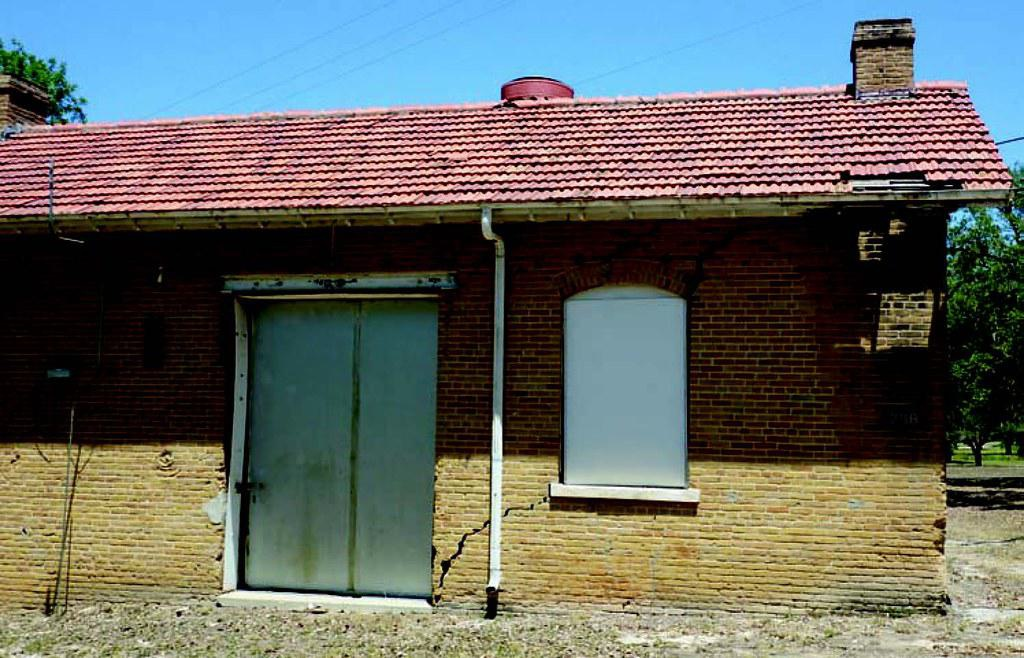crack: (437, 520, 491, 585), (507, 490, 546, 528)
